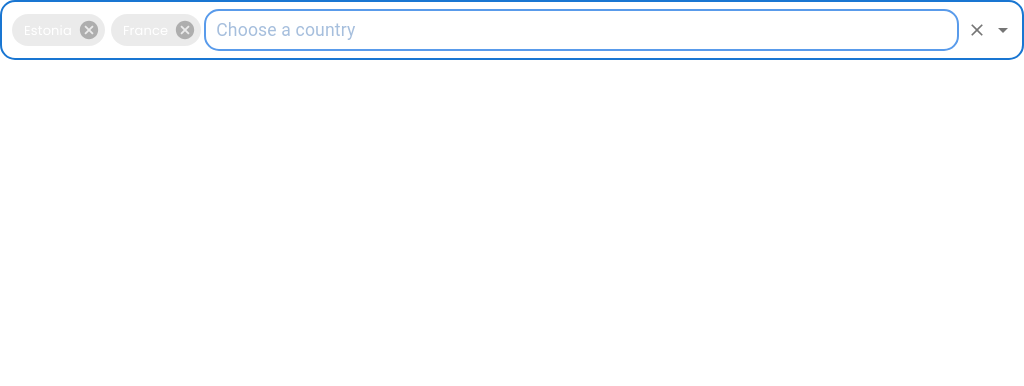
Test: CountryInput › chosen countries do not render in the country list
Click the dropdown with placeholder "Choose a country" at coordinates (582, 30), box [204,9,959,51]
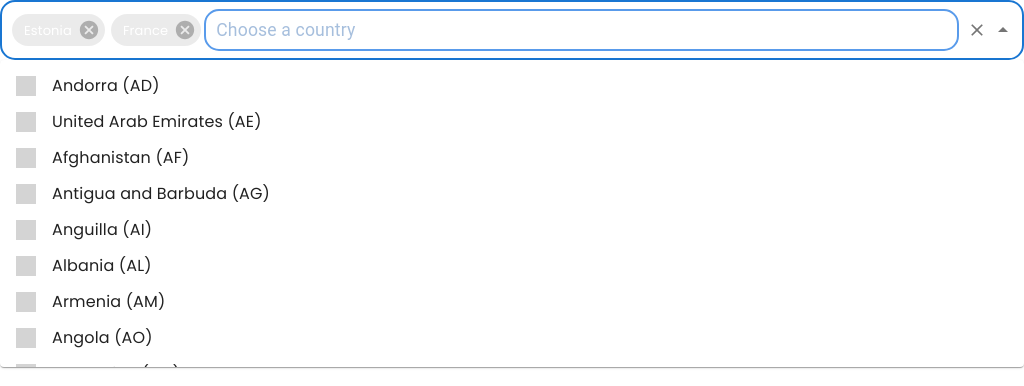
Now the option "United Arab Emirates (AE)" is shown, box [16,110,262,133]
